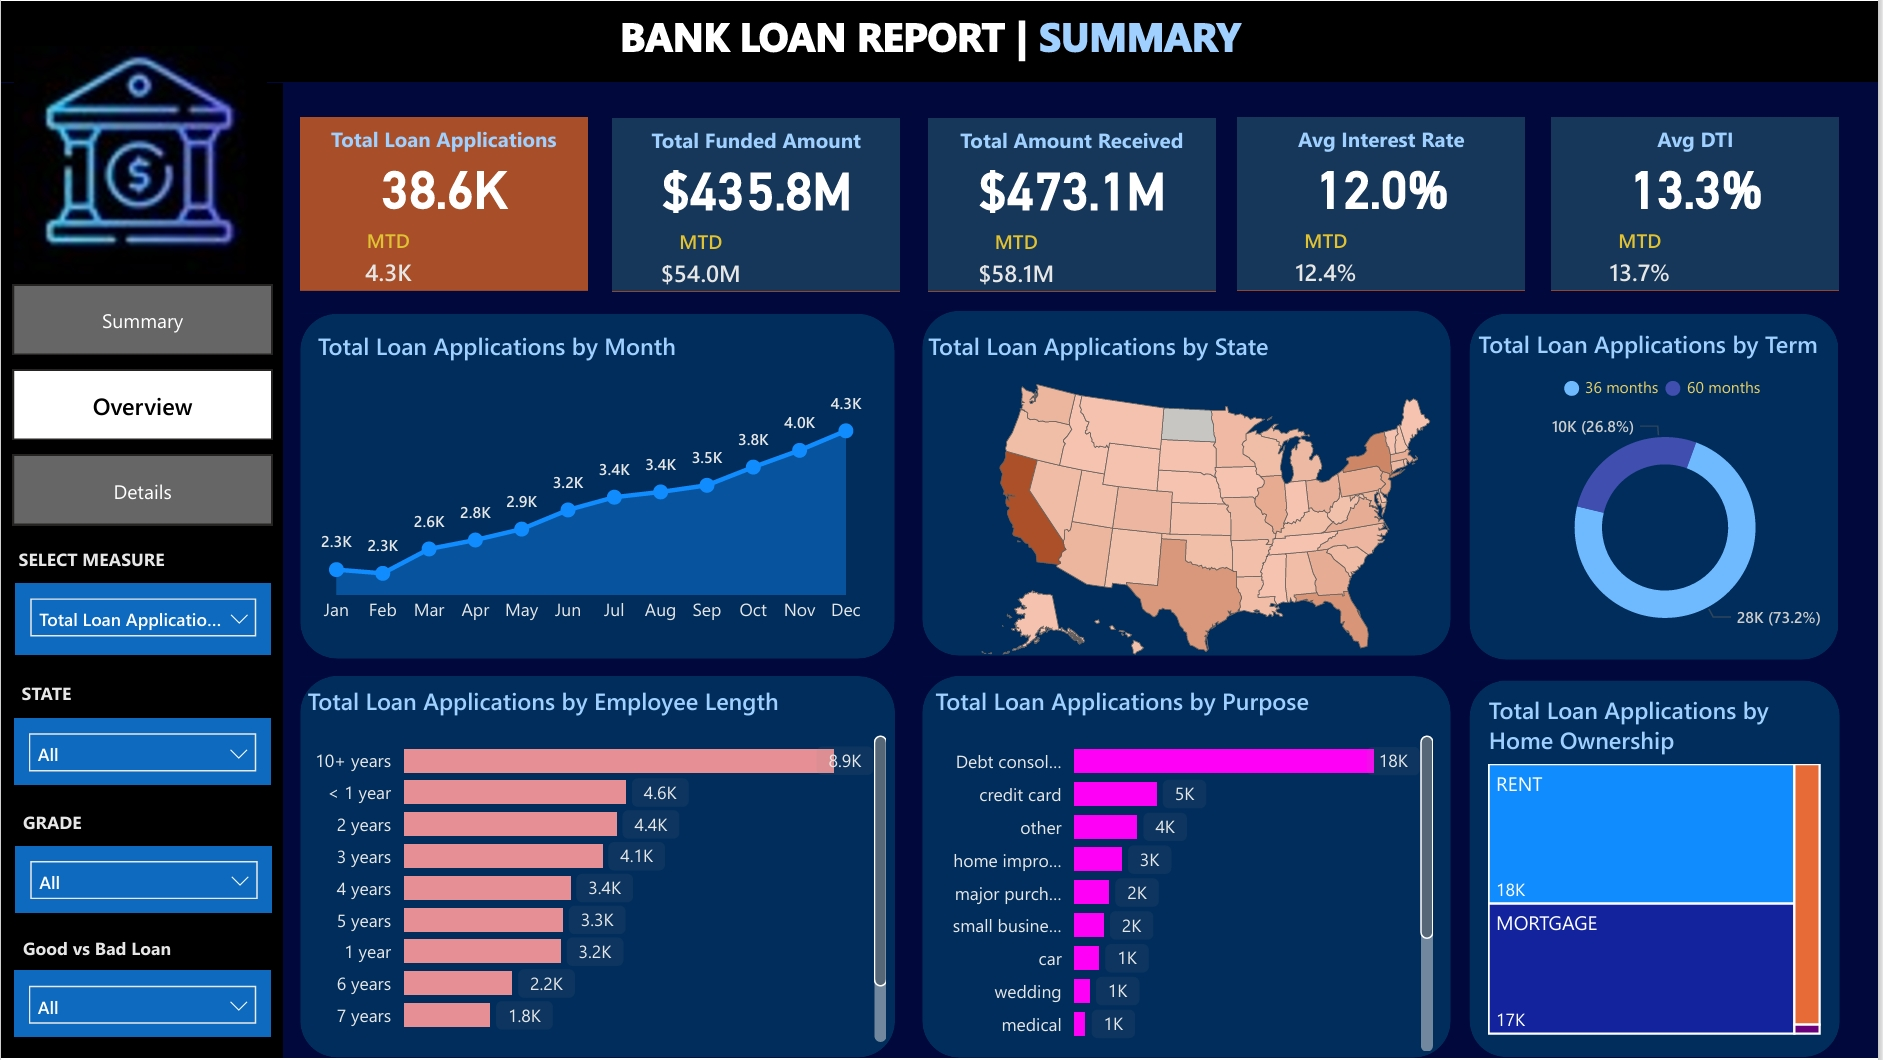

The page's visual inventory and layout, read from the dashboard file:
{"tool":"powerbi","page":{"name":"Overview","canvas":[1280,720],"ordinal":1},"visuals":[{"type":"shape","box":[204.3,78.8,195.6,117.7],"z":0,"group":"g1"},{"type":"shape","box":[843.7,78.8,195.6,117.7],"z":0,"group":"g4"},{"type":"shape","box":[1056.8,78.8,195.6,117.7],"z":0,"group":"g5"},{"type":"shape","box":[417.4,80,195.6,117.7],"z":0,"group":"g2"},{"type":"shape","box":[631.8,80,195.6,117.7],"z":0,"group":"g3"},{"type":"shape","box":[203.8,212.5,405,235],"z":0},{"type":"shape","box":[0,0,1280.4,55],"z":1000},{"type":"card","fields":{"Values":["bank_loan_db bank_loan_data.Total Loan Applications"]},"box":[190,85.2,224.3,81.1],"z":1000,"group":"g1"},{"type":"card","fields":{"Values":["bank_loan_db bank_loan_data.Avg Interest Rate"]},"box":[829.4,85.2,224.3,81.1],"z":1000,"group":"g4"},{"type":"card","fields":{"Values":["bank_loan_db bank_loan_data.Avg DTI"]},"box":[1042.5,85.2,224.3,81.1],"z":1000,"group":"g5"},{"type":"card","fields":{"Values":["bank_loan_db bank_loan_data.Total Funded Amount"]},"box":[403.1,86.4,224.3,81.1],"z":1000,"group":"g2"},{"type":"card","fields":{"Values":["bank_loan_db bank_loan_data.Total Amount Received"]},"box":[617.5,86.4,224.3,81.1],"z":1000,"group":"g3"},{"type":"shape","box":[0,55.7,192.5,664.9],"z":2000},{"type":"textbox","box":[204.3,78.8,195.6,31.8],"z":2000,"group":"g1"},{"type":"textbox","box":[843.7,78.8,195.6,31.8],"z":2000,"group":"g4"},{"type":"textbox","box":[1056.8,78.8,195.6,31.8],"z":2000,"group":"g5"},{"type":"textbox","box":[417.4,80,195.6,31.8],"z":2000,"group":"g2"},{"type":"textbox","box":[631.8,80,195.6,31.8],"z":2000,"group":"g3"},{"type":"textbox","box":[416.7,0,447,47.7],"z":3000},{"type":"card","title":"MTD","fields":{"Values":["bank_loan_db bank_loan_data.MTD Loan Applications"]},"box":[225,153.6,77.9,42.9],"z":3000,"group":"g1"},{"type":"card","title":"MTD","fields":{"Values":["bank_loan_db bank_loan_data.MTD Avg Int Rate"]},"box":[864.4,153.6,77.9,42.9],"z":3000,"group":"g4"},{"type":"card","title":"MTD","fields":{"Values":["bank_loan_db bank_loan_data.MTD Avg DTI"]},"box":[1077.5,153.6,77.9,42.9],"z":3000,"group":"g5"},{"type":"card","title":"MTD","fields":{"Values":["bank_loan_db bank_loan_data.MTD Funded Amount"]},"box":[438.1,154.8,77.9,42.9],"z":3000,"group":"g2"},{"type":"card","title":"MTD","fields":{"Values":["bank_loan_db bank_loan_data.MTD Total Amount Received"]},"box":[652.5,154.8,77.9,42.9],"z":3000,"group":"g3"},{"type":"group","id":"g1","title":"Group 1","box":[190,78.8,224.3,117.7],"z":4000},{"type":"group","id":"g2","title":"Group 1","box":[403.1,80,224.3,117.7],"z":5000},{"type":"group","id":"g3","title":"Group 1","box":[617.5,80,224.3,117.7],"z":6000},{"type":"group","id":"g4","title":"Group 1","box":[829.4,78.8,224.3,117.7],"z":7000},{"type":"group","id":"g5","title":"Group 1","box":[1042.5,78.8,224.3,117.7],"z":8000},{"type":"slicer","fields":{"Values":["bank_loan_db bank_loan_data.address_state"]},"box":[8.9,488.7,175,45],"z":9000},{"type":"textbox","box":[8.9,457.5,55,31.2],"z":10000},{"type":"slicer","fields":{"Values":["bank_loan_db bank_loan_data.grade"]},"box":[10.1,576.2,175,45],"z":11000},{"type":"textbox","box":[10.1,545,65,31.2],"z":12000},{"type":"slicer","fields":{"Values":["bank_loan_db bank_loan_data.Good vs Bad Loan"]},"box":[8.9,661.2,175,45],"z":13000},{"type":"textbox","box":[10.1,630.5,125.6,31.1],"z":14000},{"type":"areaChart","fields":{"Y":["bank_loan_db bank_loan_data.Total Loan Applications"],"Category":["Date Table.Month"]},"box":[211.2,223.8,382.5,208.8],"z":15000},{"type":"slicer","fields":{"Values":["Select Measure.Select Measure"]},"box":[10,396.7,174.4,48.9],"z":16000},{"type":"textbox","box":[6.7,365.6,146.7,31.1],"z":17000},{"type":"shape","box":[627.5,211.2,360,235],"z":18000},{"type":"shapeMap","fields":{"Value":["bank_loan_db bank_loan_data.Total Loan Applications"],"Category":["bank_loan_db bank_loan_data.address_state"]},"box":[627.1,224.3,388.6,235.7],"z":19000},{"type":"shape","box":[1001.4,212.9,251.4,235.7],"z":20000},{"type":"donutChart","fields":{"Y":["bank_loan_db bank_loan_data.Total Loan Applications"],"Category":["bank_loan_db bank_loan_data.term"]},"box":[1001.5,222.7,264.4,223.5],"z":21000},{"type":"shape","box":[203.8,459.8,405.3,259.8],"z":22000},{"type":"barChart","fields":{"Y":["bank_loan_db bank_loan_data.Total Loan Applications"],"Category":["bank_loan_db bank_loan_data.emp_length"]},"box":[204.4,465.6,404.4,247.8],"z":23000},{"type":"shape","box":[627.8,460,360,260],"z":24000},{"type":"barChart","fields":{"Y":["bank_loan_db bank_loan_data.Total Loan Applications"],"Category":["bank_loan_db bank_loan_data.purpose"]},"box":[632.2,465.6,348.9,254.4],"z":25000},{"type":"shape","box":[1001.1,463.3,252.2,256.7],"z":26000},{"type":"treemap","fields":{"Values":["bank_loan_db bank_loan_data.Total Loan Applications"],"Group":["bank_loan_db bank_loan_data.home_ownership"]},"box":[1008.9,472.2,235.6,236.7],"z":27000},{"type":"pageNavigator","box":[7.8,193.3,177.8,166.7],"z":28000},{"type":"image","box":[4.4,23.3,182.2,170],"z":29000}]}

Visuals, with their boxes in screenshot pixels (x1, y1, x2, y2), scaled from the page's 1280x720 canvas onto the 1883x1060 screenshot:
shape: x1=301, y1=116, x2=588, y2=289
shape: x1=1241, y1=116, x2=1529, y2=289
shape: x1=1555, y1=116, x2=1842, y2=289
shape: x1=614, y1=118, x2=902, y2=291
shape: x1=929, y1=118, x2=1217, y2=291
shape: x1=300, y1=313, x2=896, y2=659
shape: x1=0, y1=0, x2=1882, y2=81
card - bank_loan_db bank_loan_data.Total Loan Applications: x1=280, y1=125, x2=609, y2=245
card - bank_loan_db bank_loan_data.Avg Interest Rate: x1=1220, y1=125, x2=1550, y2=245
card - bank_loan_db bank_loan_data.Avg DTI: x1=1534, y1=125, x2=1864, y2=245
card - bank_loan_db bank_loan_data.Total Funded Amount: x1=593, y1=127, x2=923, y2=247
card - bank_loan_db bank_loan_data.Total Amount Received: x1=908, y1=127, x2=1238, y2=247
shape: x1=0, y1=82, x2=283, y2=1059
textbox: x1=301, y1=116, x2=588, y2=163
textbox: x1=1241, y1=116, x2=1529, y2=163
textbox: x1=1555, y1=116, x2=1842, y2=163
textbox: x1=614, y1=118, x2=902, y2=165
textbox: x1=929, y1=118, x2=1217, y2=165
textbox: x1=613, y1=0, x2=1271, y2=70
"MTD" card: x1=331, y1=226, x2=446, y2=289
"MTD" card: x1=1272, y1=226, x2=1386, y2=289
"MTD" card: x1=1585, y1=226, x2=1700, y2=289
"MTD" card: x1=644, y1=228, x2=759, y2=291
"MTD" card: x1=960, y1=228, x2=1074, y2=291
"Group 1" group: x1=280, y1=116, x2=609, y2=289
"Group 1" group: x1=593, y1=118, x2=923, y2=291
"Group 1" group: x1=908, y1=118, x2=1238, y2=291
"Group 1" group: x1=1220, y1=116, x2=1550, y2=289
"Group 1" group: x1=1534, y1=116, x2=1864, y2=289
slicer - bank_loan_db bank_loan_data.address_state: x1=13, y1=719, x2=271, y2=786
textbox: x1=13, y1=674, x2=94, y2=719
slicer - bank_loan_db bank_loan_data.grade: x1=15, y1=848, x2=272, y2=915
textbox: x1=15, y1=802, x2=110, y2=848
slicer - bank_loan_db bank_loan_data.Good vs Bad Loan: x1=13, y1=973, x2=271, y2=1040
textbox: x1=15, y1=928, x2=200, y2=974
areaChart - bank_loan_db bank_loan_data.Total Loan Applications x Date Table.Month: x1=311, y1=329, x2=873, y2=637
slicer - Select Measure.Select Measure: x1=15, y1=584, x2=271, y2=656
textbox: x1=10, y1=538, x2=226, y2=584
shape: x1=923, y1=311, x2=1453, y2=657
shapeMap - bank_loan_db bank_loan_data.Total Loan Applications x bank_loan_db bank_loan_data.address_state: x1=923, y1=330, x2=1494, y2=677
shape: x1=1473, y1=313, x2=1843, y2=660
donutChart - bank_loan_db bank_loan_data.Total Loan Applications x bank_loan_db bank_loan_data.term: x1=1473, y1=328, x2=1862, y2=657
shape: x1=300, y1=677, x2=896, y2=1059
barChart - bank_loan_db bank_loan_data.Total Loan Applications x bank_loan_db bank_loan_data.emp_length: x1=301, y1=685, x2=896, y2=1050
shape: x1=924, y1=677, x2=1453, y2=1059
barChart - bank_loan_db bank_loan_data.Total Loan Applications x bank_loan_db bank_loan_data.purpose: x1=930, y1=685, x2=1443, y2=1059
shape: x1=1473, y1=682, x2=1844, y2=1059
treemap - bank_loan_db bank_loan_data.Total Loan Applications x bank_loan_db bank_loan_data.home_ownership: x1=1484, y1=695, x2=1831, y2=1044
pageNavigator: x1=11, y1=285, x2=273, y2=530
image: x1=6, y1=34, x2=275, y2=285
